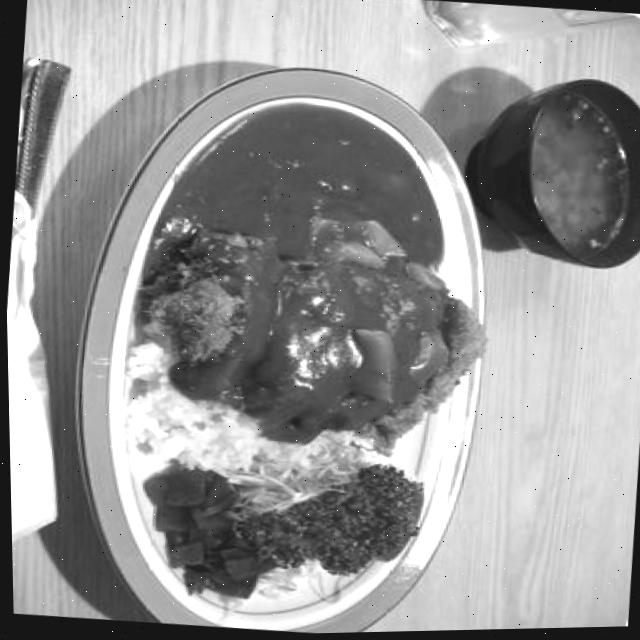猪肉菜式: (48, 28, 513, 639)
